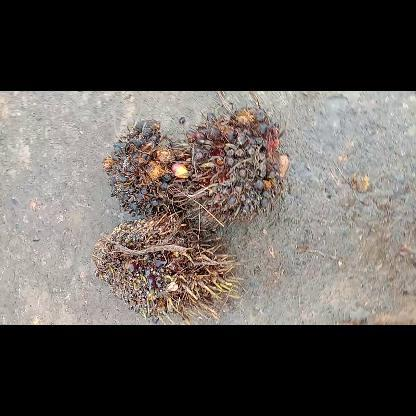TBS abnormal: (92, 212, 242, 324), (174, 109, 288, 227), (102, 120, 188, 218)
